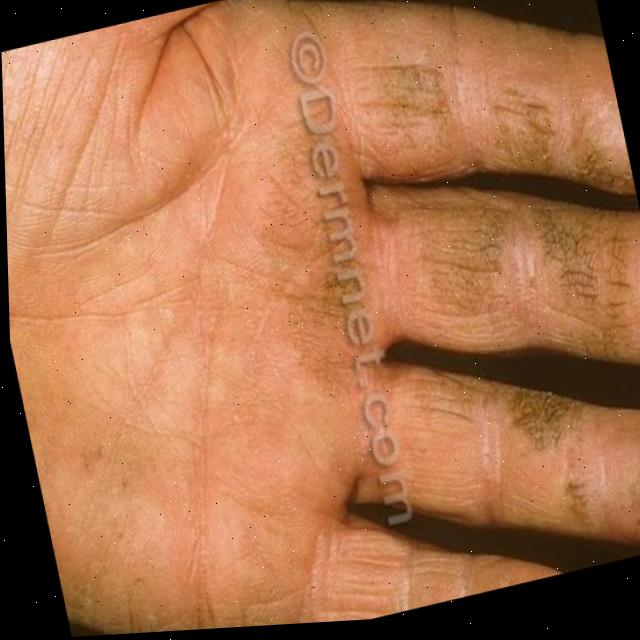Eczema: (270, 23, 640, 583)
